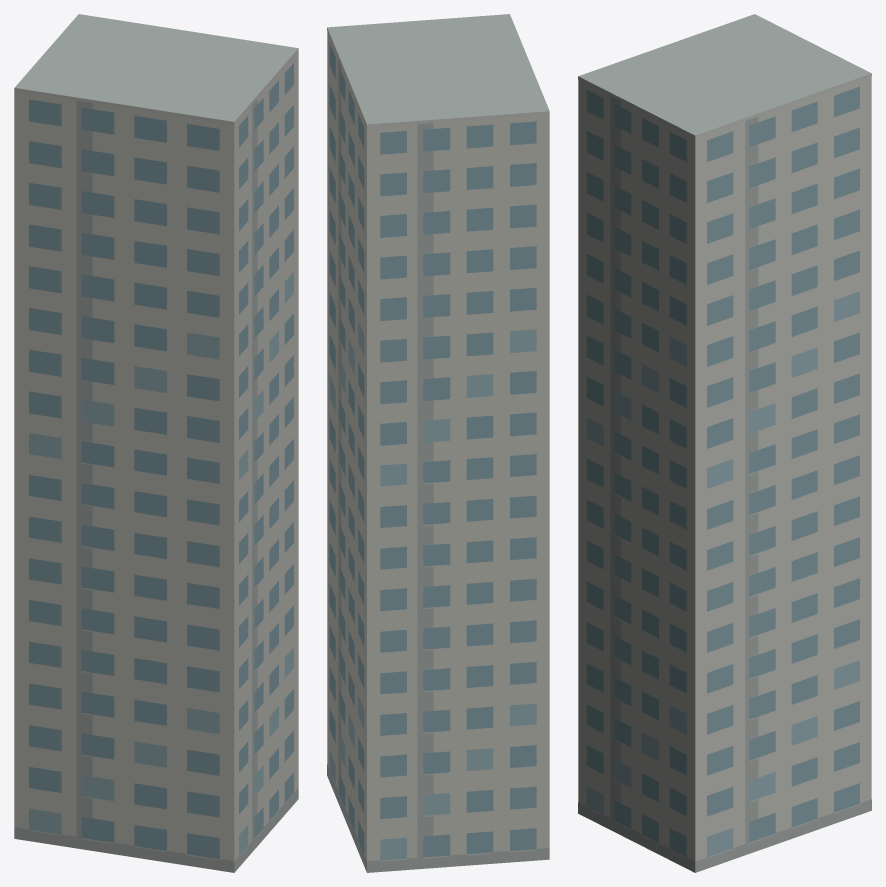
File: residential-459310a2-a02b-4262-9d1c-927dc9f43df6.glb
3 views of the same model, side by side, from view 1: azimuth 30°, elevation 25°; view 2: azimuth 150°, elevation 25°; view 3: azimuth 270°, elevation 25° (orthographic).
Parts seen in each view (by area): view 1: residential-459310a2-a02b-4262-9d1c-927dc9f43df6.tmp; view 2: residential-459310a2-a02b-4262-9d1c-927dc9f43df6.tmp; view 3: residential-459310a2-a02b-4262-9d1c-927dc9f43df6.tmp.
Part boxes in pixels (x1,y1,x2,y2): residential-459310a2-a02b-4262-9d1c-927dc9f43df6.tmp: (14, 14, 298, 872); residential-459310a2-a02b-4262-9d1c-927dc9f43df6.tmp: (327, 14, 549, 872); residential-459310a2-a02b-4262-9d1c-927dc9f43df6.tmp: (578, 14, 871, 872).
Size of the model in its own units: 20.52 by 58 by 20.94.
